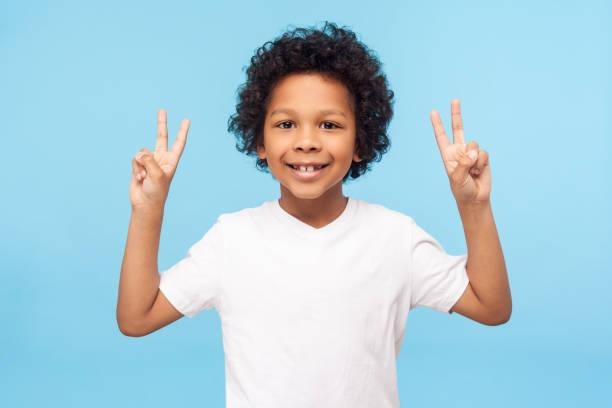peace_sign: (125, 101, 194, 211)
